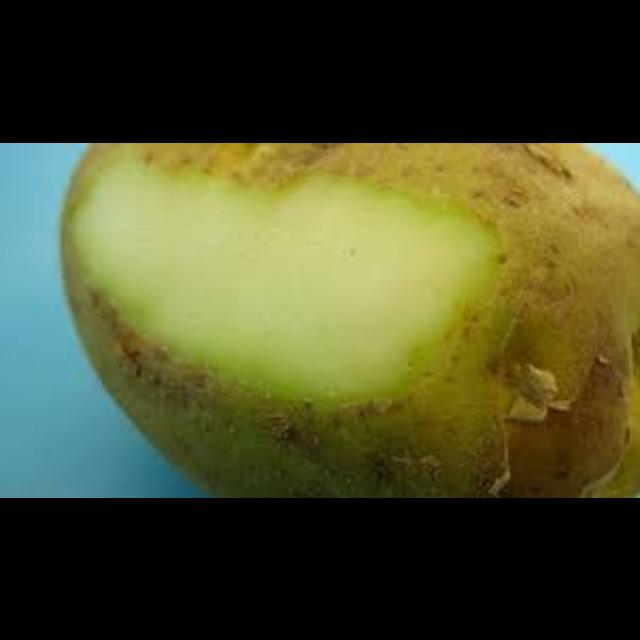Defected potato: (61, 142, 639, 496)
